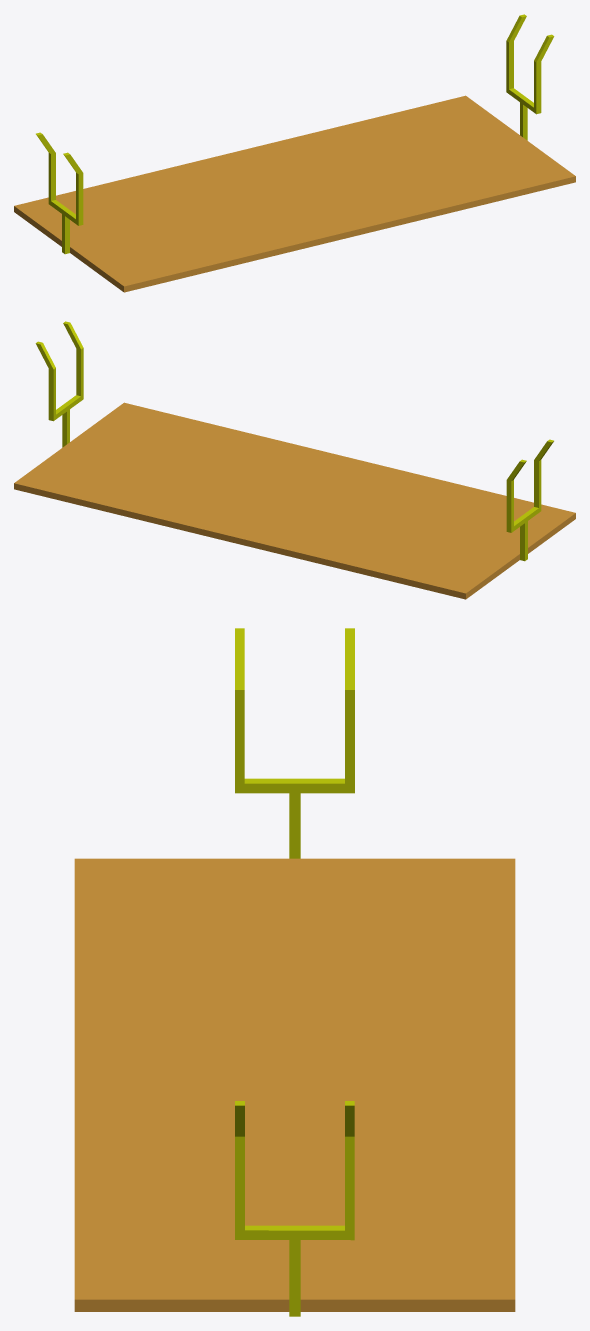
The model's file is footballfield.fbx.
3 views of the same model, one above another, from view 1: azimuth 30°, elevation 25°; view 2: azimuth 150°, elevation 25°; view 3: azimuth 270°, elevation 25° (orthographic). The views are drawn at different scales.
Visible parts, largest first — view 1: Plane, Plane.001, Plane.002, Cube; view 2: Plane, Plane.001, Plane.002, Cube; view 3: Plane, Plane.002, Plane.001, Cube.
Boxes of the visible parts, left/top/right/bottom form: Plane: left=63, top=107, right=526, bottom=280; Plane.001: left=14, top=194, right=173, bottom=292; Plane.002: left=417, top=95, right=575, bottom=194; Cube: left=36, top=14, right=554, bottom=254; Plane: left=63, top=414, right=525, bottom=587; Plane.001: left=416, top=501, right=575, bottom=599; Plane.002: left=14, top=402, right=172, bottom=501; Cube: left=35, top=321, right=553, bottom=561; Plane: left=74, top=907, right=515, bottom=1251; Plane.002: left=74, top=1251, right=515, bottom=1311; Plane.001: left=74, top=858, right=515, bottom=906; Cube: left=235, top=628, right=354, bottom=1316.
Bounding box in the file's own units: 1651 × 362 × 644.
